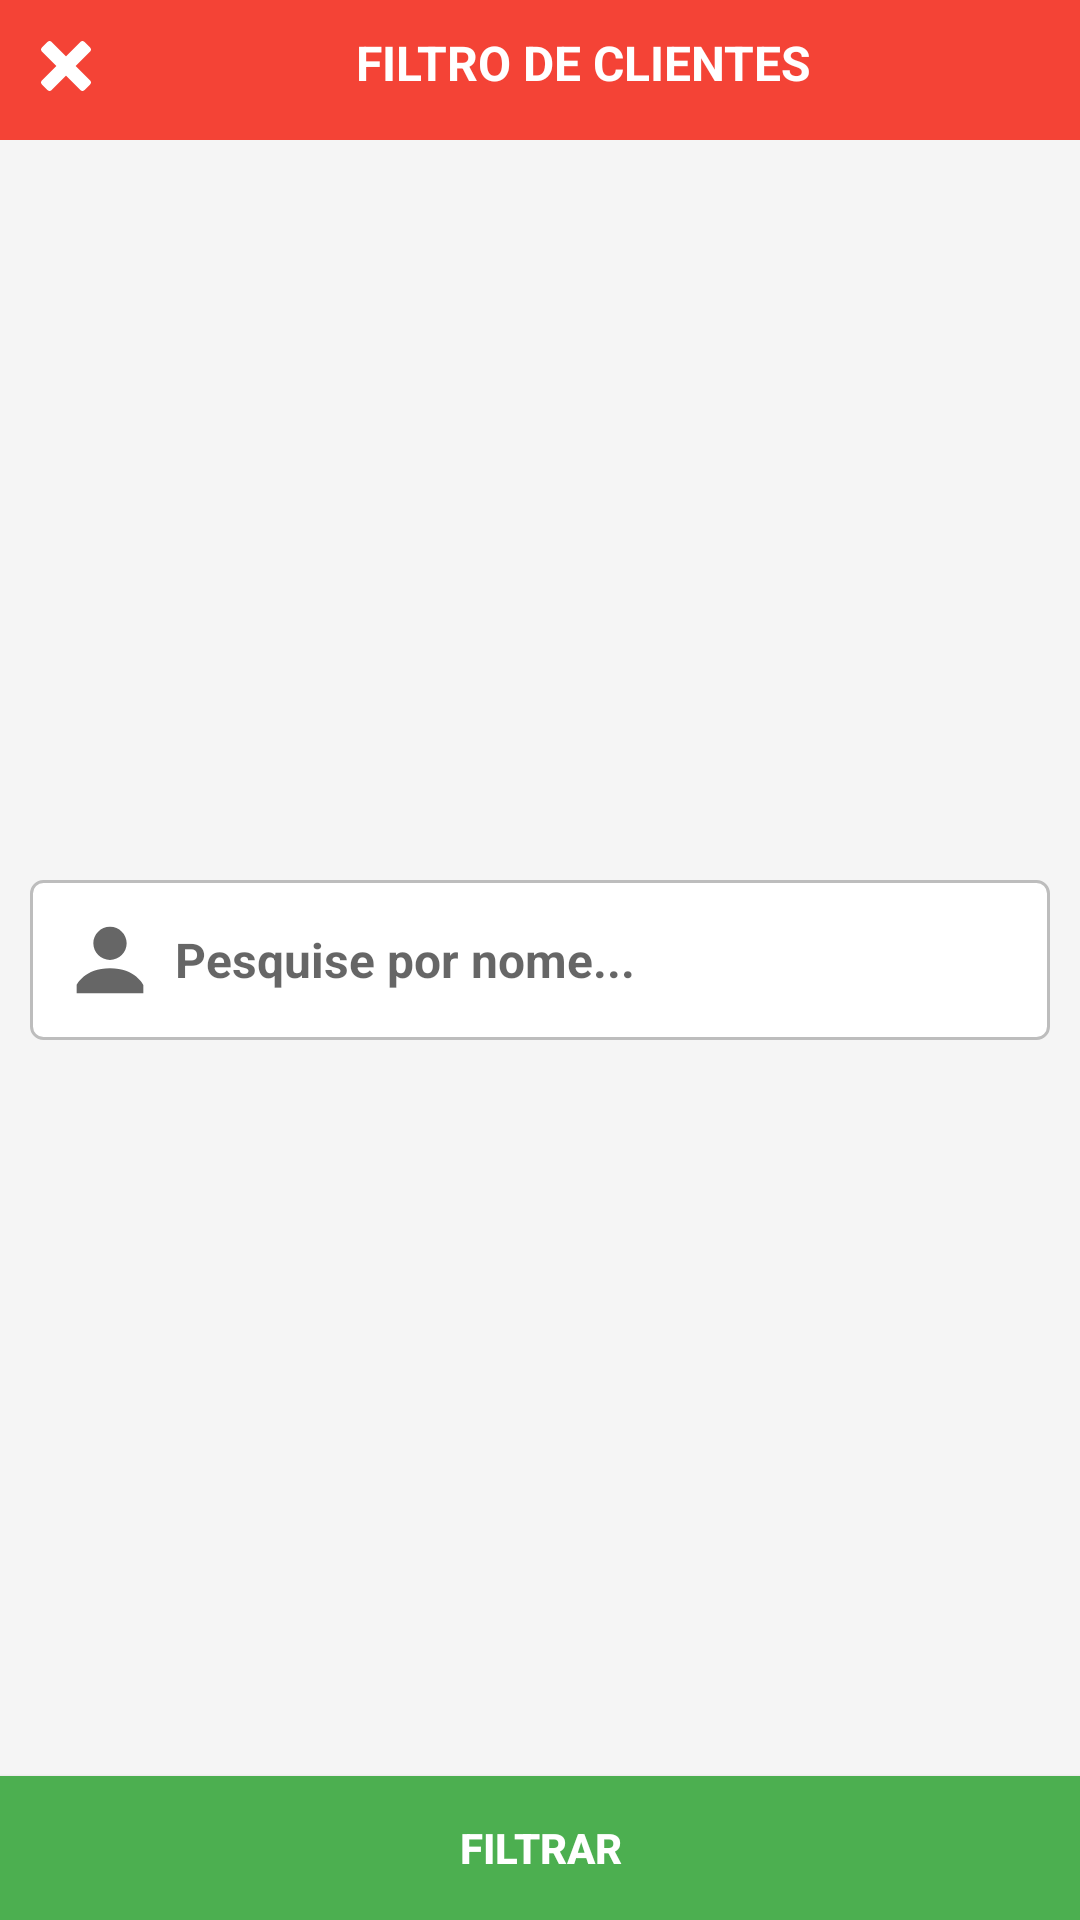

Screen size 1080px×1920px. Icon name, then its center in pixels as point (x, y):
close: point (66, 66)
